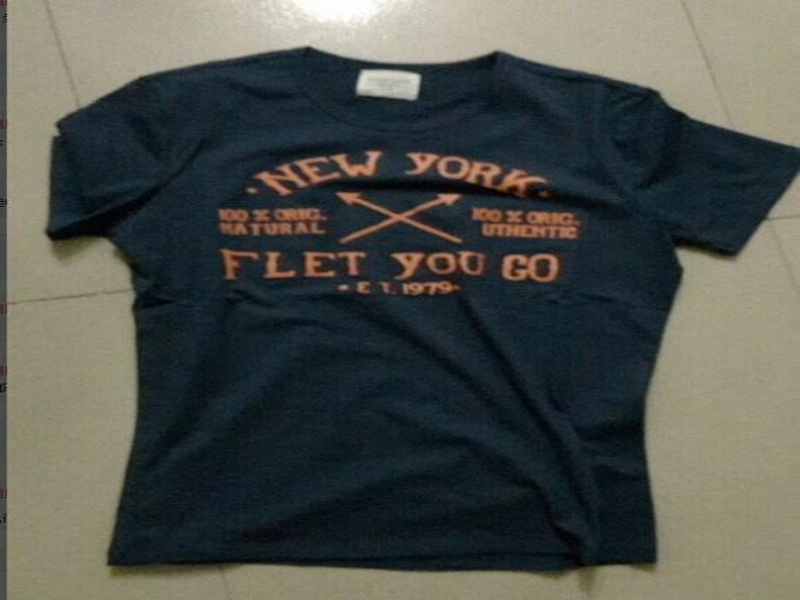short_sleeved_shirt: (38, 42, 797, 576)
